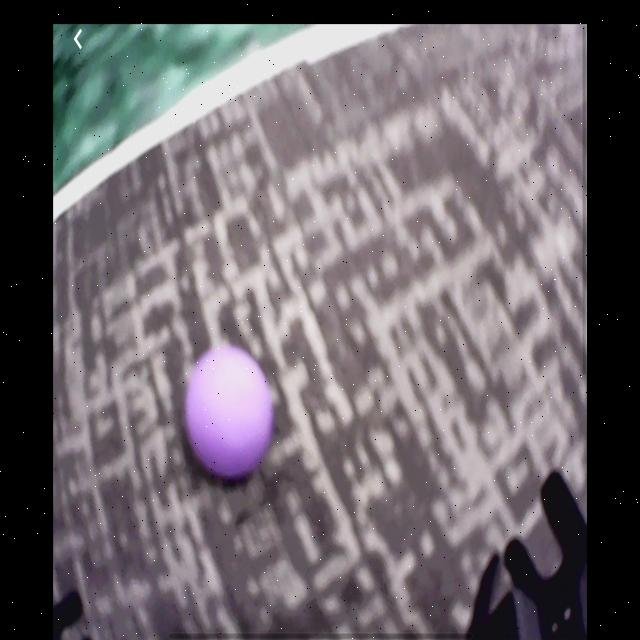ball: (185, 345, 274, 480)
